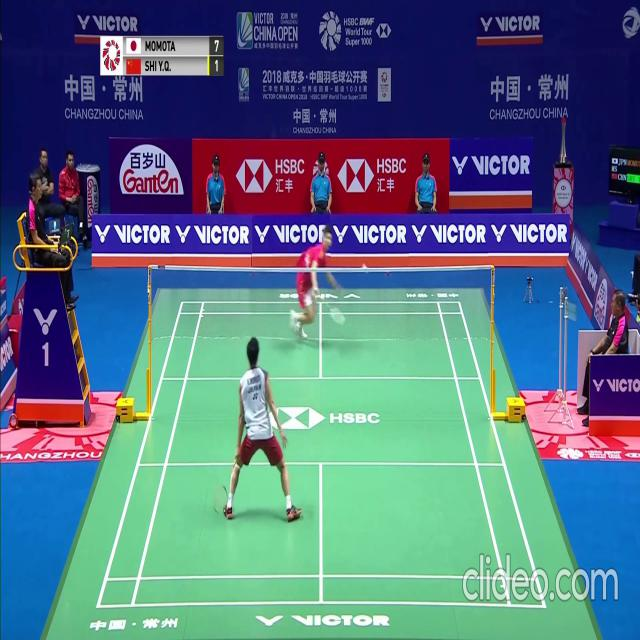Shuttlecock: (362, 264, 367, 272)
